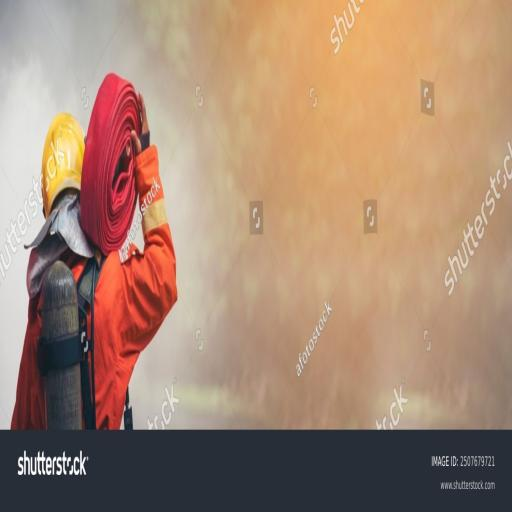fire_hose: (74, 54, 153, 264)
